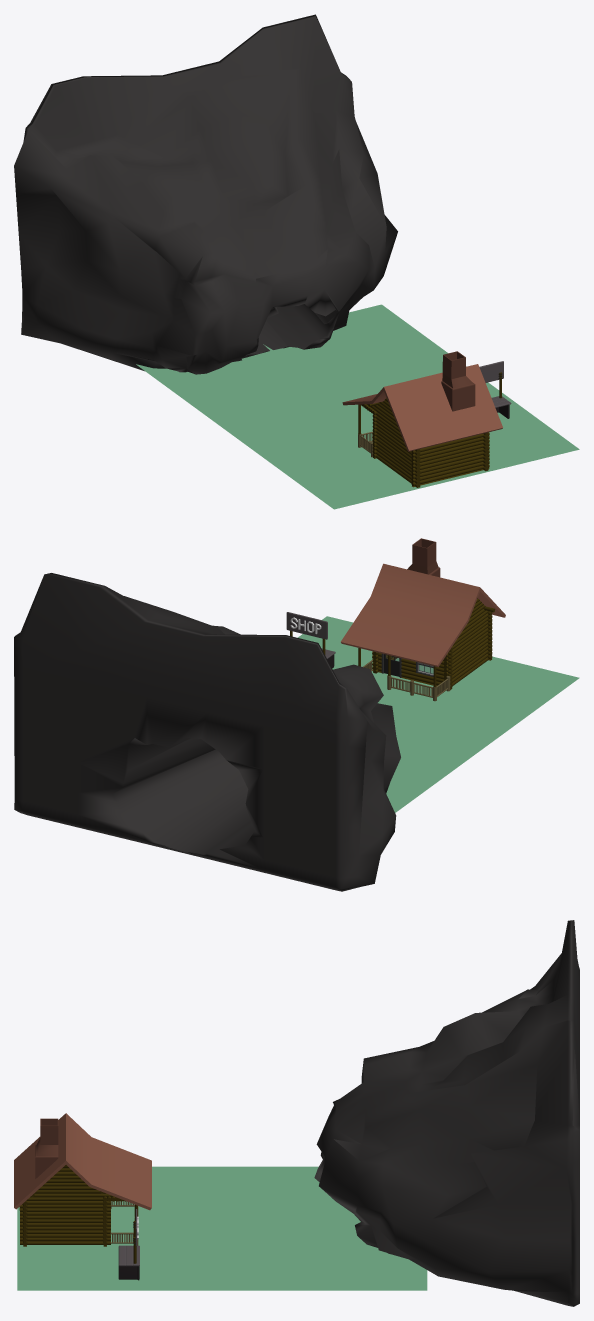
Rendered from Log Cabin.fbx.
3 renders of one model, top to bottom at view 1: azimuth 30°, elevation 25°; view 2: azimuth 150°, elevation 25°; view 3: azimuth 270°, elevation 25°, orthographic. The views are drawn at different scales.
Parts seen in each view (by area): view 1: polySurface27, pPlane1, polySurface25; view 2: polySurface27, pPlane1, pCube5, polySurface25, pCube39; view 3: polySurface27, pPlane1, pCube5, polySurface25.
Part boxes in pixels (bbox=[...]): polySurface27: bbox=[14, 14, 397, 374]; pPlane1: bbox=[136, 304, 579, 509]; polySurface25: bbox=[383, 351, 502, 451]; polySurface27: bbox=[14, 573, 400, 891]; pPlane1: bbox=[297, 616, 579, 812]; pCube5: bbox=[341, 566, 480, 667]; polySurface25: bbox=[382, 538, 505, 617]; pCube39: bbox=[286, 612, 327, 639]; polySurface27: bbox=[314, 920, 579, 1306]; pPlane1: bbox=[17, 1166, 427, 1290]; pCube5: bbox=[64, 1113, 151, 1210]; polySurface25: bbox=[14, 1113, 67, 1209].
Bounding box in the file's own units: 123 × 80.95 × 167.
